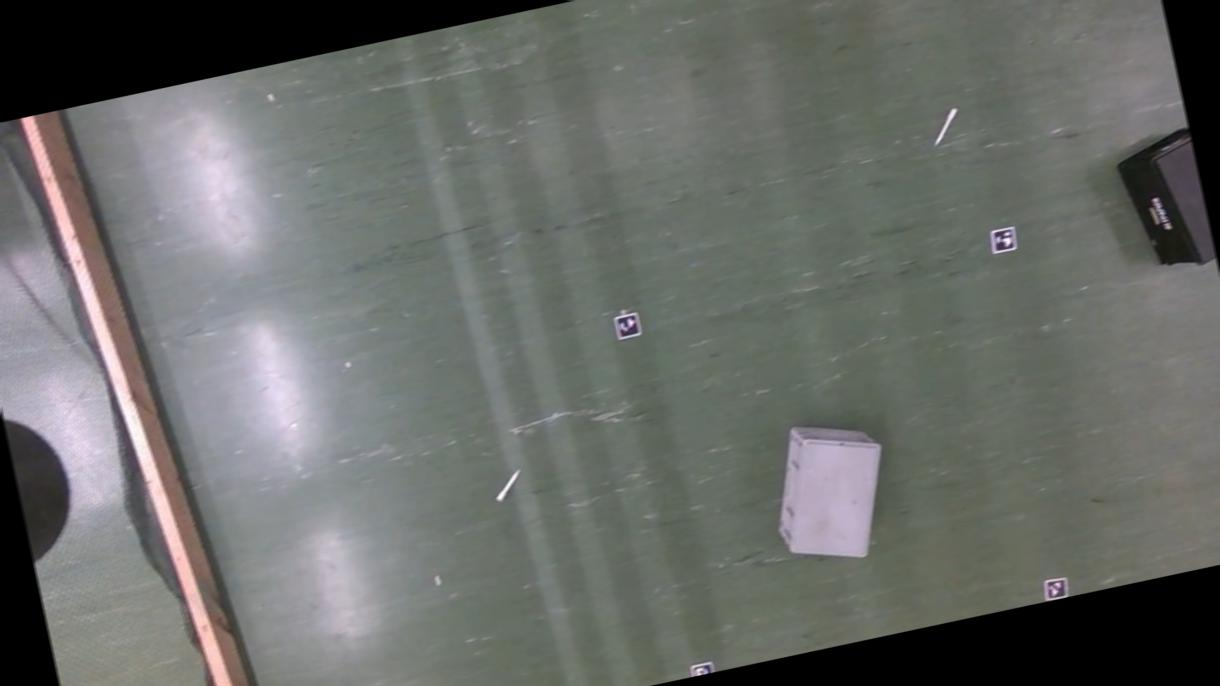probes: (928, 106, 965, 145), (492, 468, 526, 502)
rako: (753, 404, 906, 578), (1110, 125, 1216, 278)
